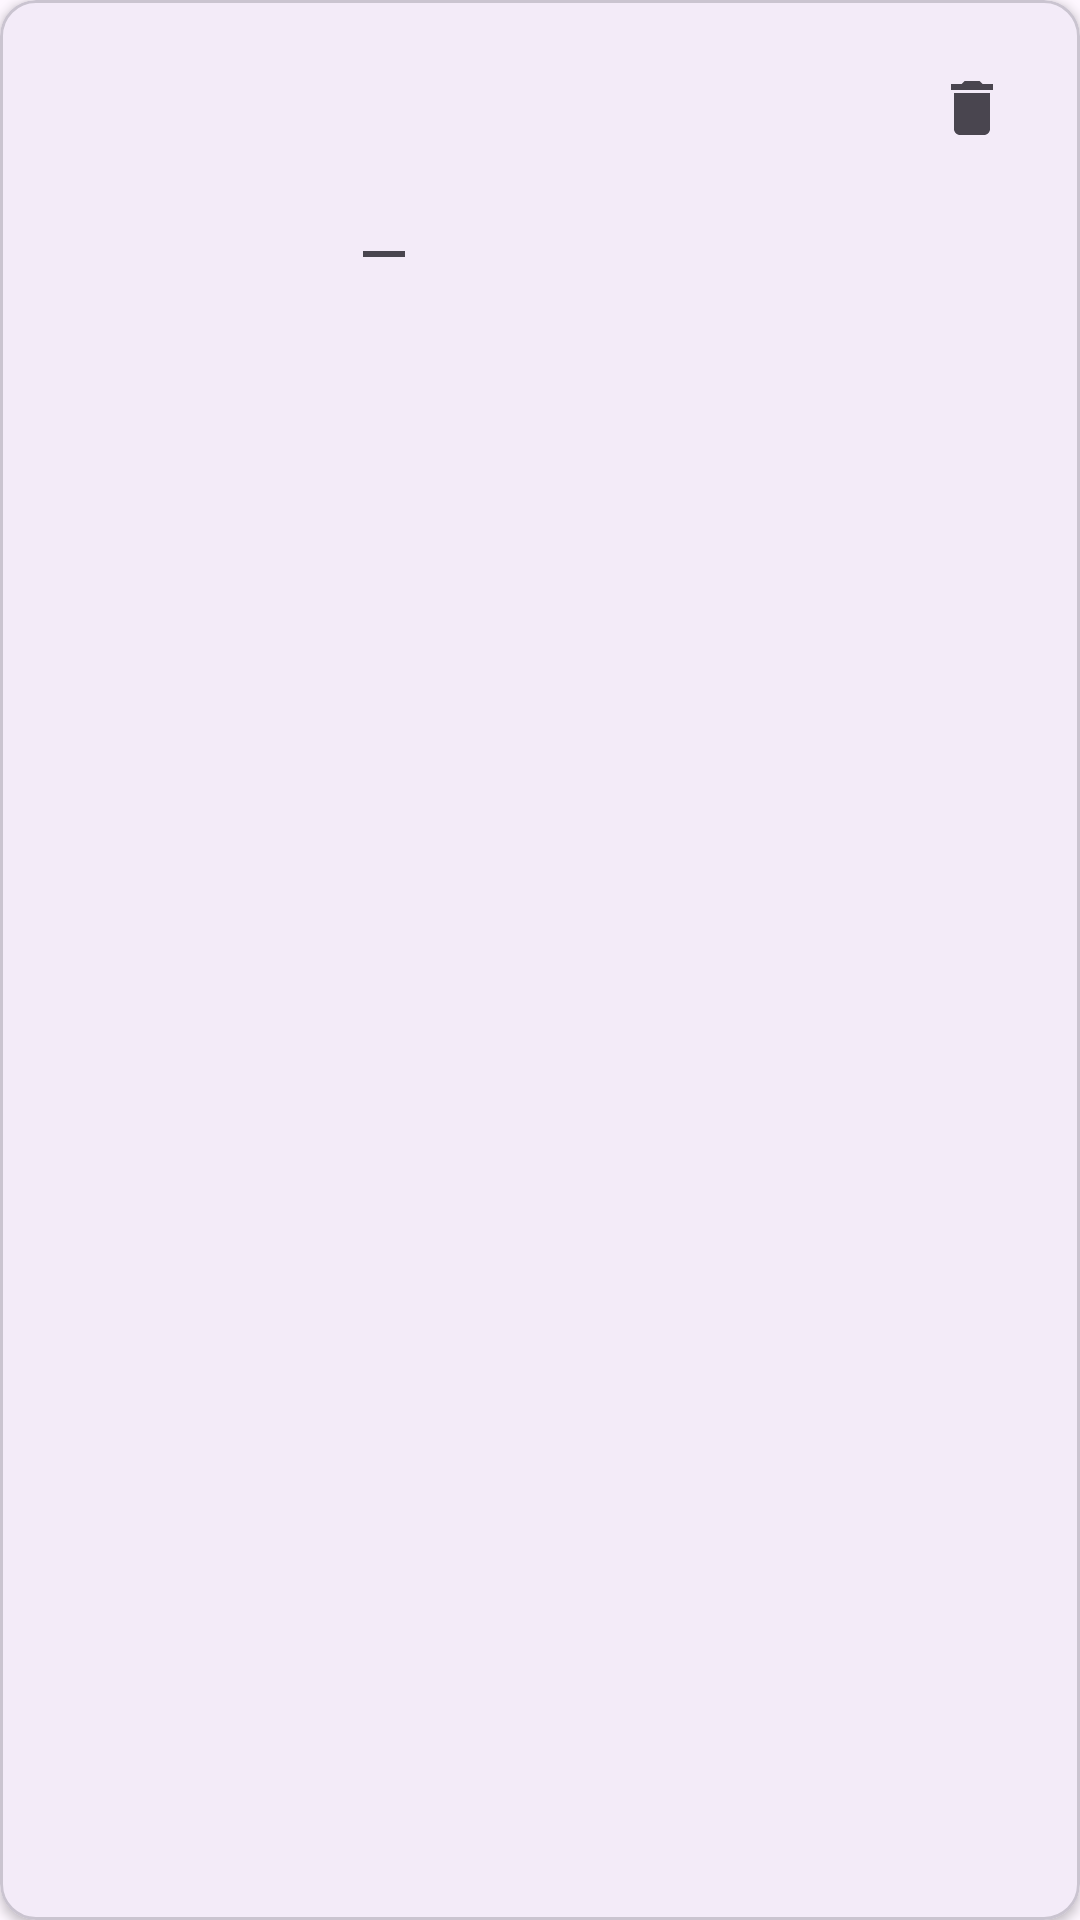

Icons on this 1080*1920 Android screen, each with the point to tap as [x,y]:
delete: [972,108]
